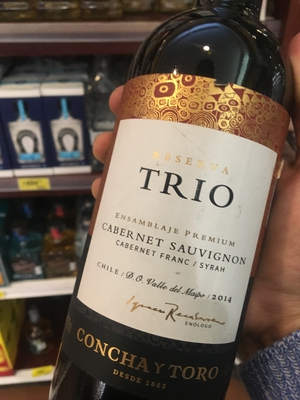trio cabernet sauvignon: (59, 33, 287, 400)
